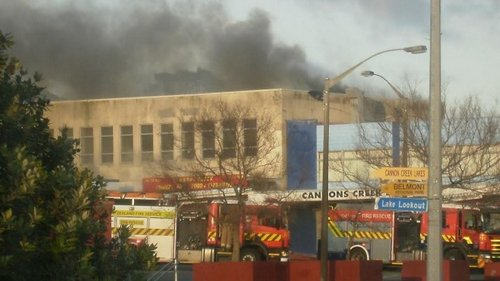smoke: (18, 4, 308, 91)
